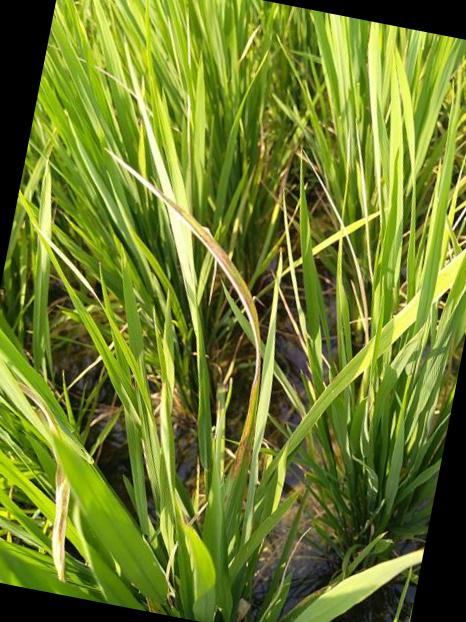Leaf Blight: (109, 150, 263, 476), (50, 465, 70, 584), (19, 383, 59, 437)
